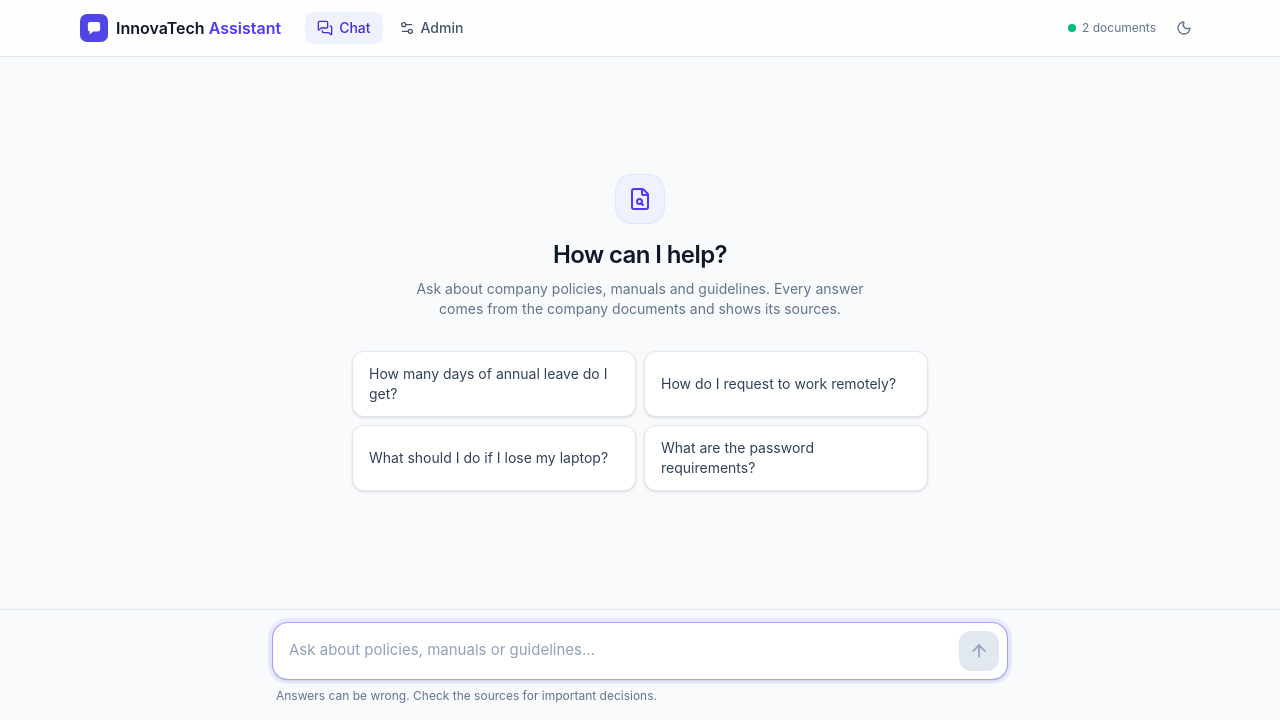
Test: ChatPage › streams the answer, renders Markdown and shows sources on citation click
This screenshot has width=1280, height=720.
Type "How much leave?" into the text box named "Your question" at (616, 651), box 281,631 -> 951,671
Then press Enter
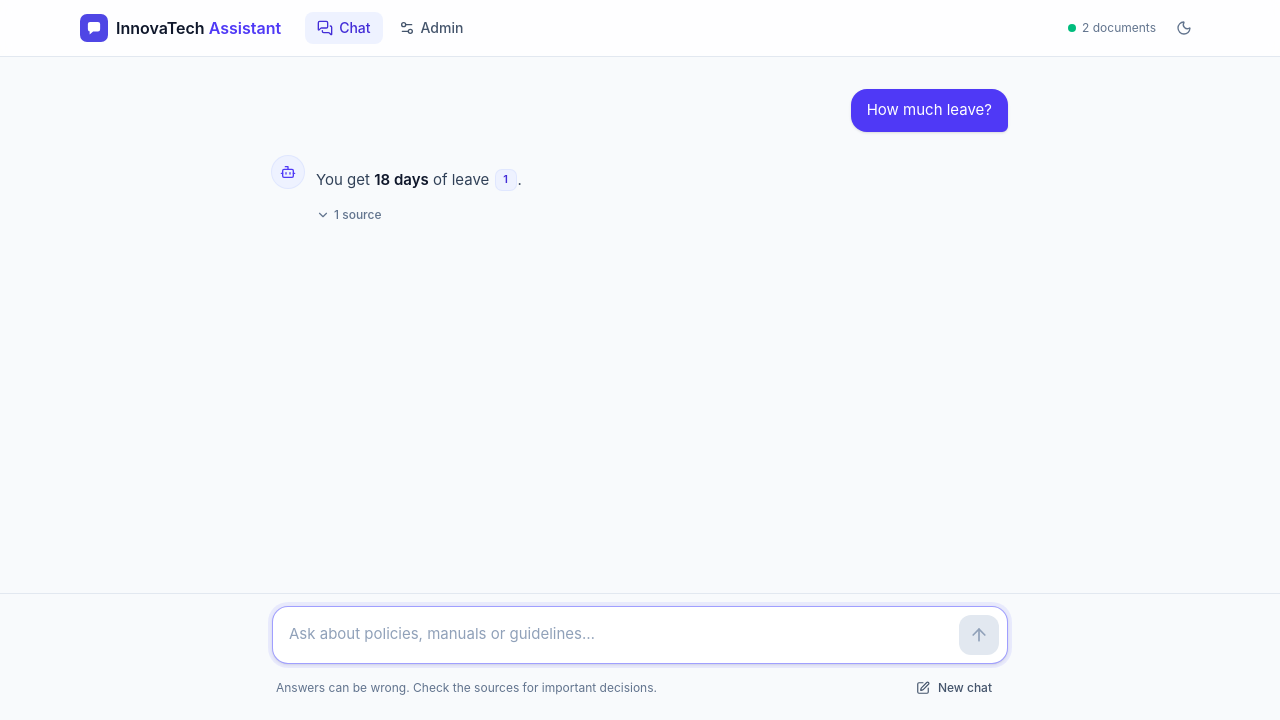
Check: the text "Leave_Policy.txt" is not shown
Check: the text "How much leave?" is shown, box 851,89 -> 1008,132
Click the button named "Show source 1" at (506, 180), box 496,170 -> 516,190
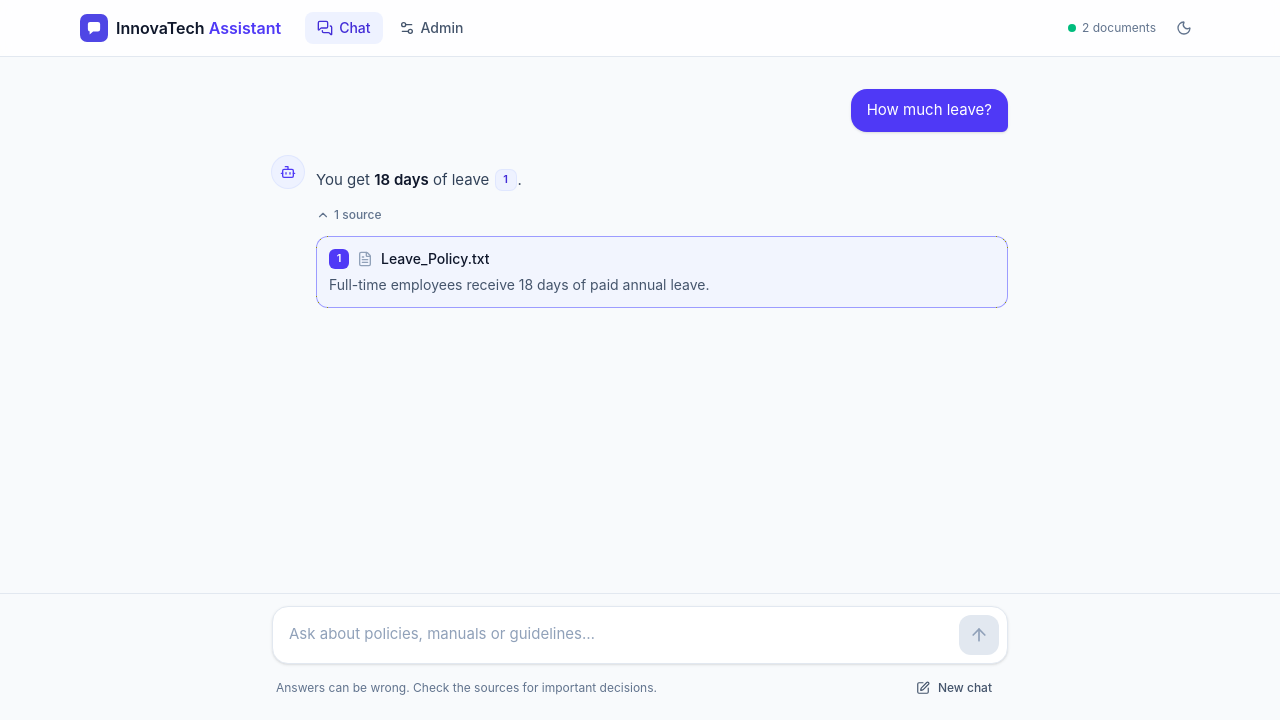
Check: the text "Leave_Policy.txt" is shown, box 381,249 -> 490,269
Check: the text "Full-time employees receive 18 days of paid annual leave." is shown, box 329,276 -> 710,293
